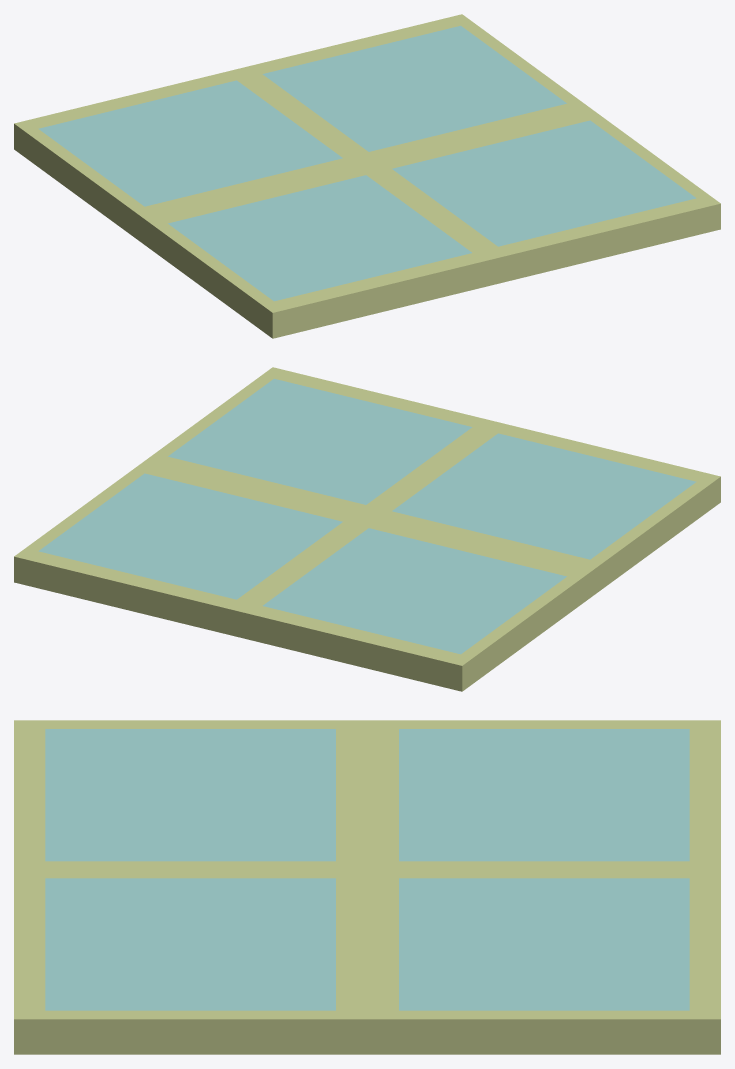
File: Floor.fbx
3 renders of one model, top to bottom at view 1: azimuth 30°, elevation 25°; view 2: azimuth 150°, elevation 25°; view 3: azimuth 270°, elevation 25°, orthographic. The views are drawn at different scales.
Visible parts, largest first — view 1: Floor; view 2: Floor; view 3: Floor.
Part boxes in pixels (x1,y1,x2,y2): Floor: (14, 14, 720, 338); Floor: (14, 367, 720, 691); Floor: (14, 720, 720, 1054).
Bounding box in the file's own units: 1 × 0.0552 × 1.
